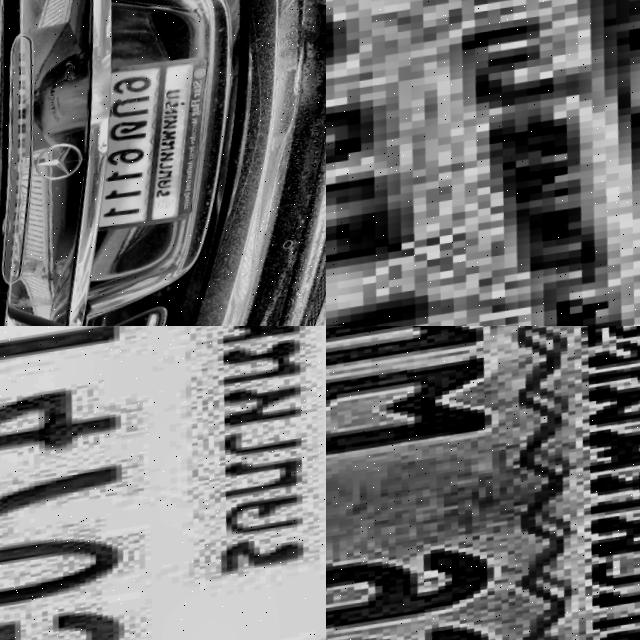license-plate: (326, 0, 640, 326), (0, 326, 326, 640), (326, 326, 640, 640), (84, 53, 229, 240)
